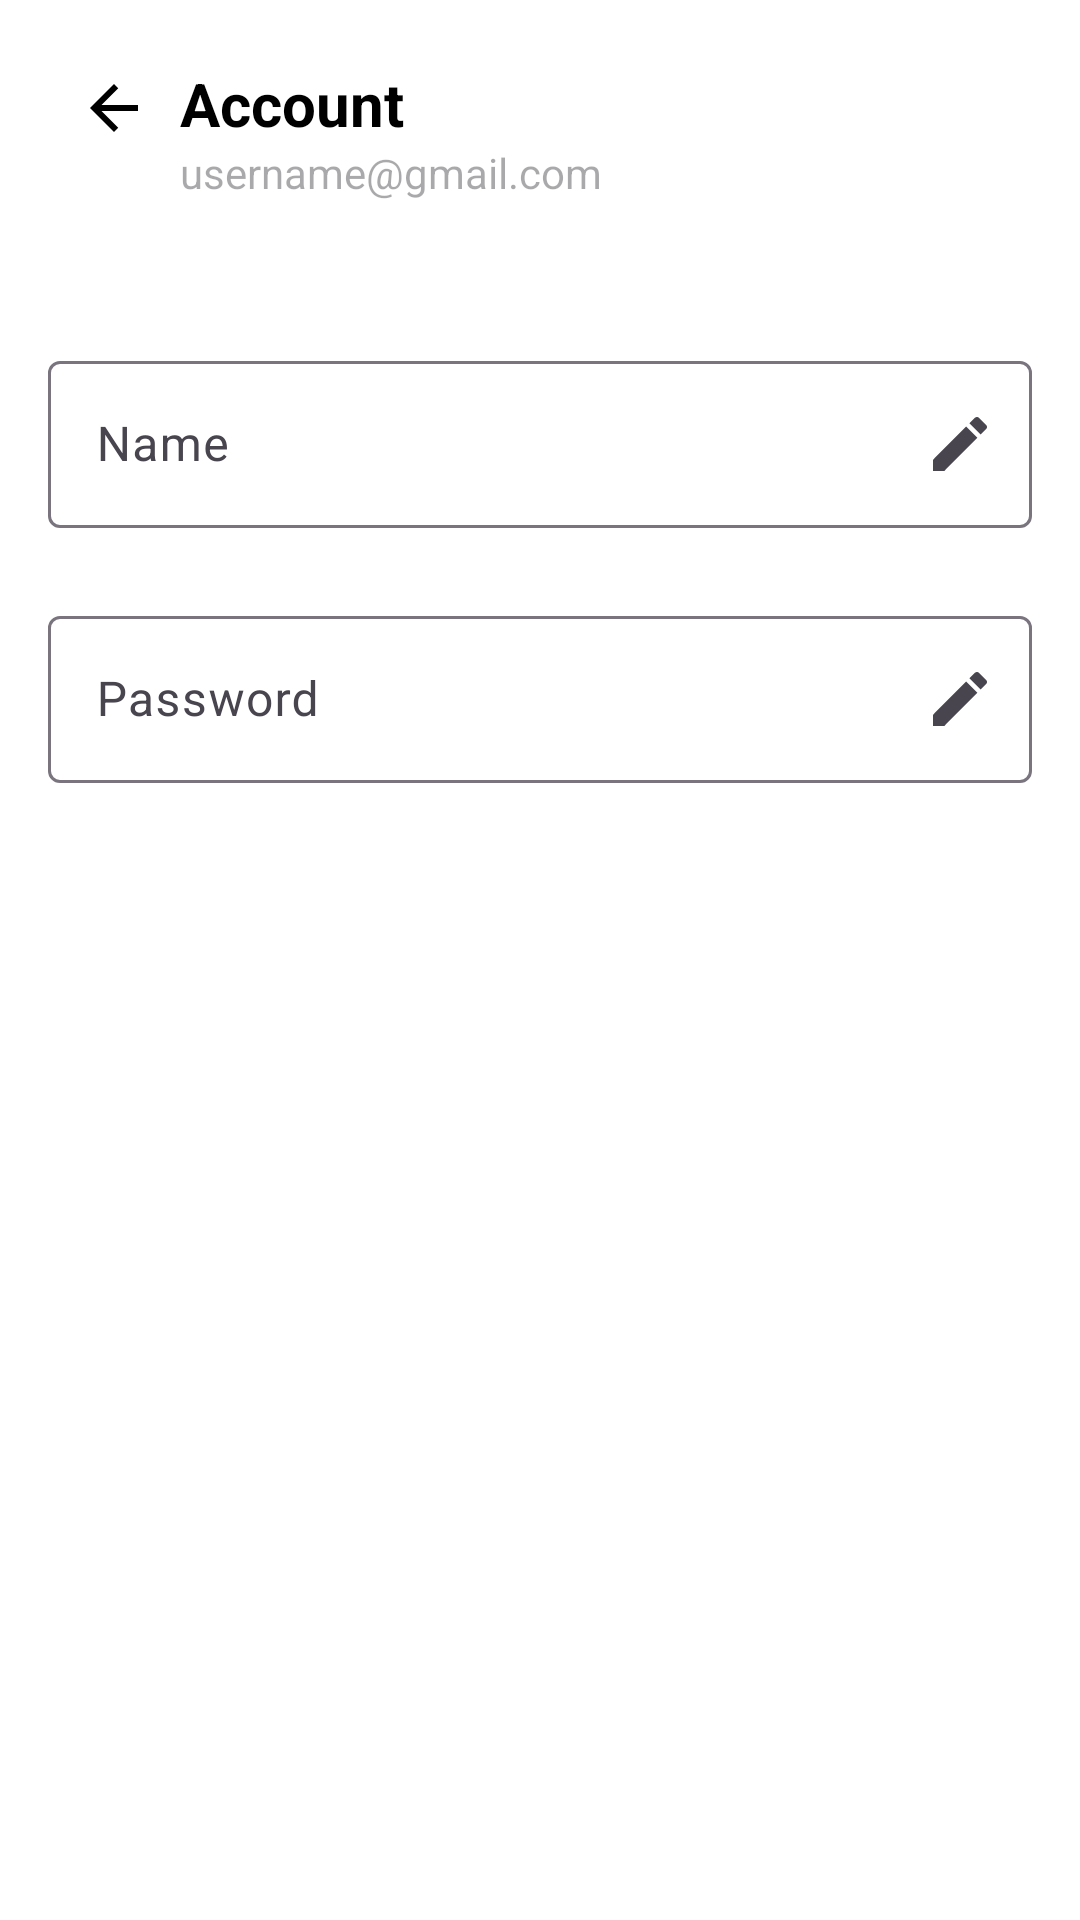

Icon bounding boxes for this 1080w x 1920h phone screenshot, format (x1, y1, x2, y2):
left arrow: (90, 84, 138, 132)
